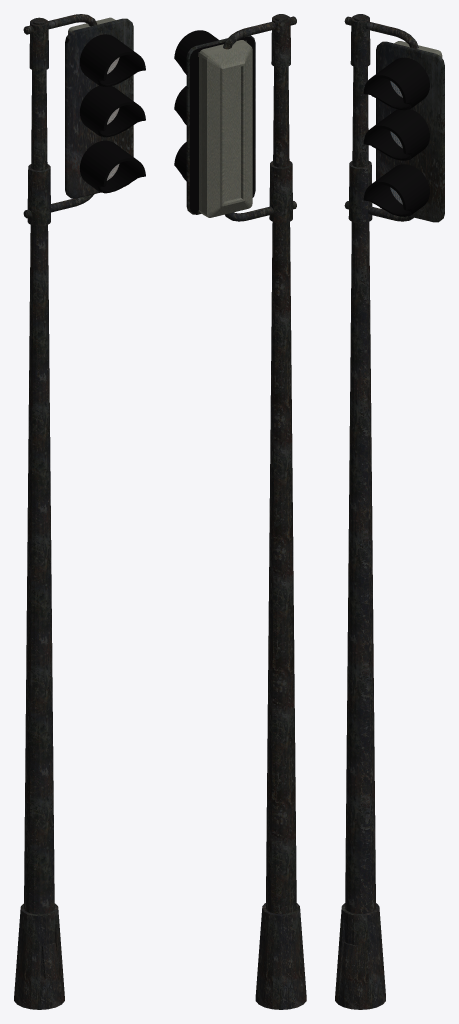
File: cj_traffic_light3.obj
3 views of the same model, side by side, from view 1: azimuth 30°, elevation 25°; view 2: azimuth 210°, elevation 25°; view 3: azimuth 330°, elevation 25° (orthographic).
Parts seen in each view (by area): view 1: CJ_TRAFFIC_LIGHT3; view 2: CJ_TRAFFIC_LIGHT3; view 3: CJ_TRAFFIC_LIGHT3.
Boxes of the visible parts, left/top/right/bottom form: CJ_TRAFFIC_LIGHT3: left=14, top=14, right=145, bottom=1009; CJ_TRAFFIC_LIGHT3: left=174, top=14, right=306, bottom=1009; CJ_TRAFFIC_LIGHT3: left=335, top=14, right=444, bottom=1009.
Size of the model in its own units: 0.5734 by 4.84 by 0.3882.
